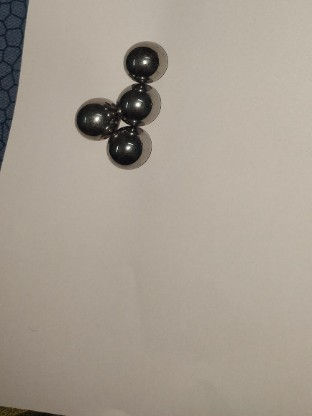ironball: (72, 97, 119, 143), (116, 81, 160, 128), (106, 130, 153, 171), (125, 41, 167, 83)
